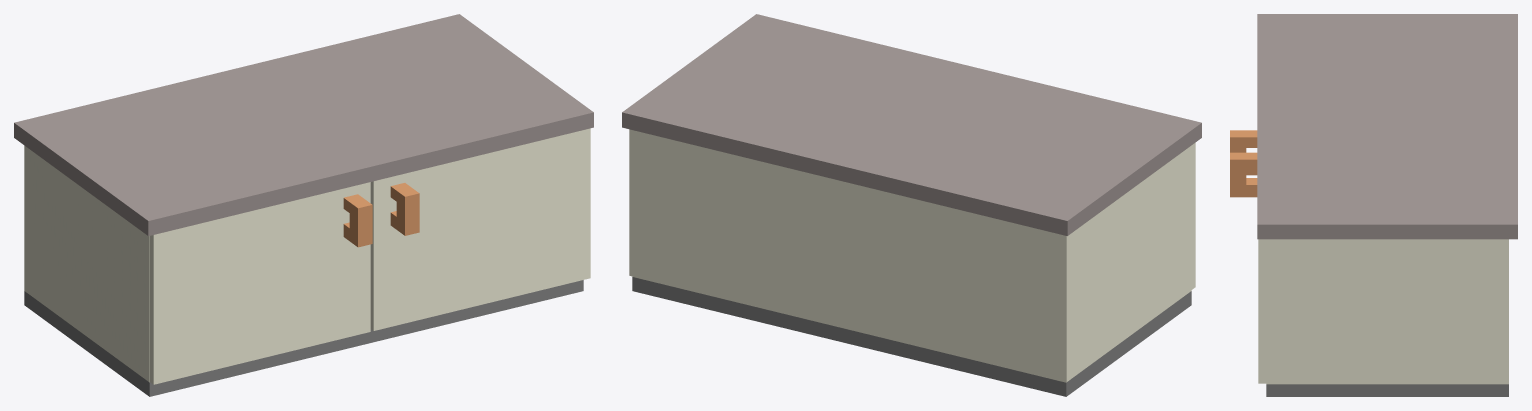
Rendered from Counter.fbx.
3 views of the same model, side by side, from view 1: azimuth 30°, elevation 25°; view 2: azimuth 150°, elevation 25°; view 3: azimuth 270°, elevation 25° (orthographic). The views are drawn at different scales.
Visible parts, largest first — view 1: Cube.006, Cube.002, Cube.001, Cube.004, Cube.003, Cube.007, Cube.008; view 2: Cube.006, Cube, Cube.004, Cube.003, Cube.002, Cube.005; view 3: Cube.006, Cube.005, Cube.003, Cube.001, Cube.008, Cube.007.
Boxes of the visible parts, x1,y1,x2,y2 form: Cube.006: (14,14,593,235); Cube.002: (149,182,370,384); Cube.001: (370,128,590,330); Cube.004: (24,145,149,382); Cube.003: (24,280,583,396); Cube.007: (343,194,372,247); Cube.008: (390,183,419,235); Cube.006: (622,14,1201,235); Cube: (632,130,1066,382); Cube.004: (1066,145,1191,382); Cube.003: (632,277,1191,396); Cube.002: (1191,142,1195,289); Cube.005: (629,129,632,276); Cube.006: (1257,14,1517,239); Cube.005: (1266,239,1508,384); Cube.003: (1266,384,1508,396); Cube.001: (1258,239,1266,383); Cube.008: (1230,152,1257,197); Cube.007: (1230,130,1257,175).
Bounding box in the file's own units: 616 × 239 × 356.
